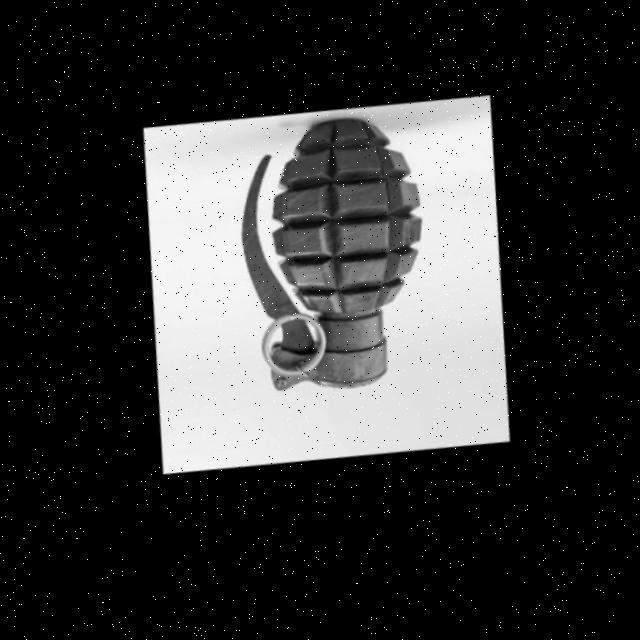grenade: (204, 99, 460, 416)
